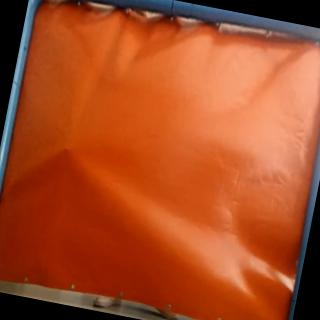Hit-hRxx: (56, 141, 77, 158)
